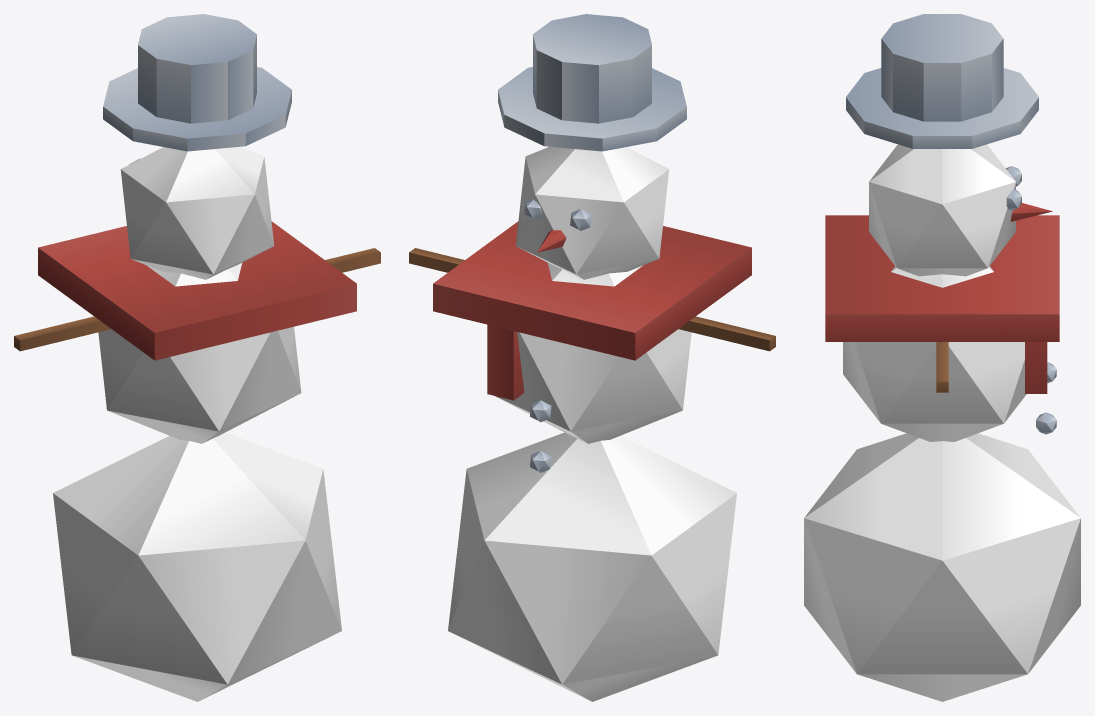
File: snowman.fbx
3 renders of one model, left to right at view 1: azimuth 30°, elevation 25°; view 2: azimuth 150°, elevation 25°; view 3: azimuth 270°, elevation 25°, orthographic.
Parts seen in each view (by area): view 1: snowman; view 2: snowman; view 3: snowman.
Boxes of the visible parts, x1=… form: snowman: x1=14, y1=14, x2=380, y2=701; snowman: x1=409, y1=14, x2=775, y2=701; snowman: x1=804, y1=14, x2=1080, y2=701.
Bounding box in the file's own units: 456 × 800 × 303.
